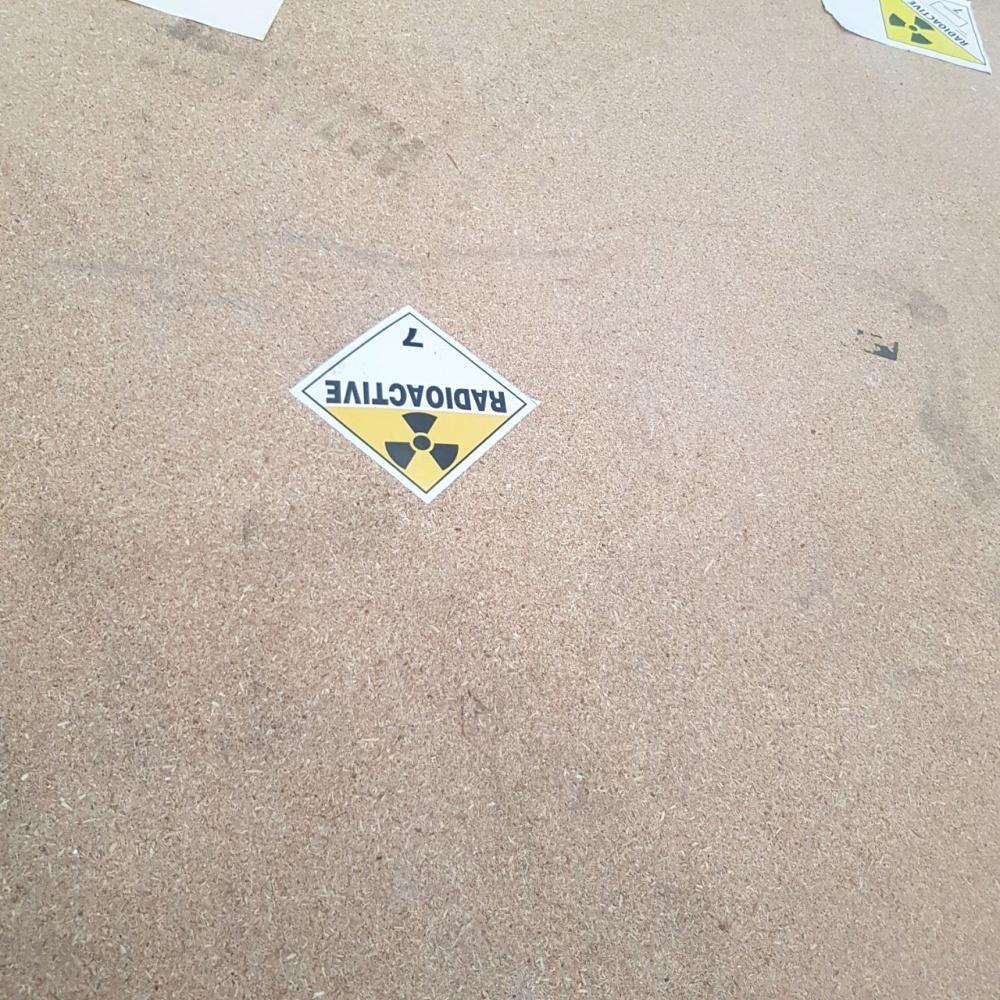radioactive: (292, 305, 538, 502), (880, 1, 992, 77)
